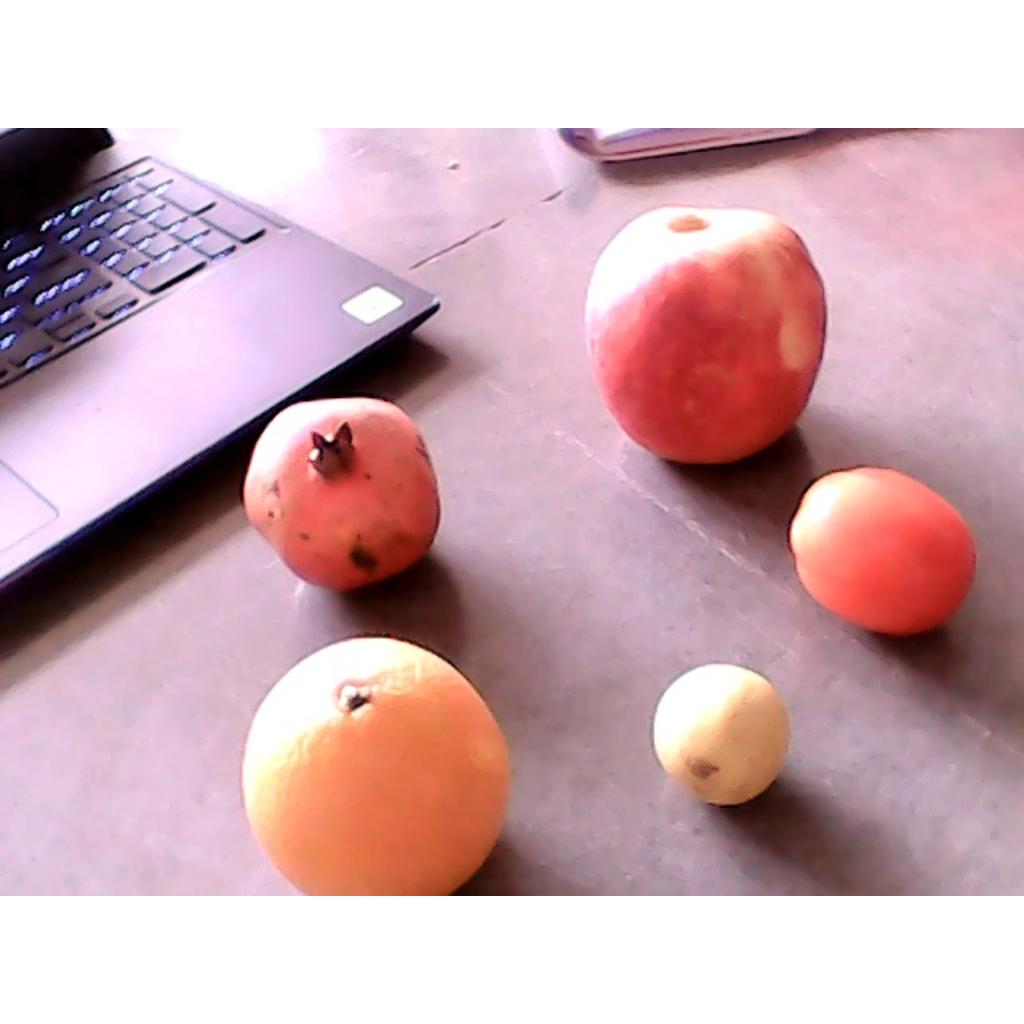apple: (587, 205, 829, 462)
lemon: (655, 662, 790, 806)
orange: (244, 637, 511, 894)
pomegranate: (244, 398, 441, 591)
tomato: (789, 463, 976, 634)
